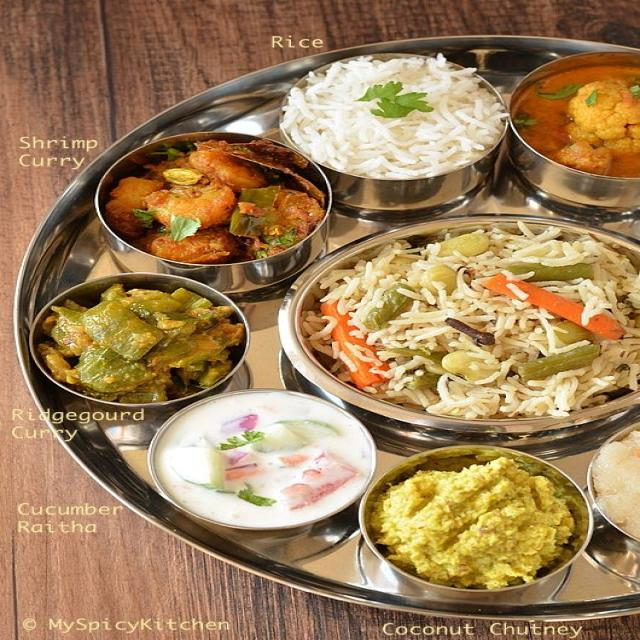veg meals: (6, 28, 640, 599)
